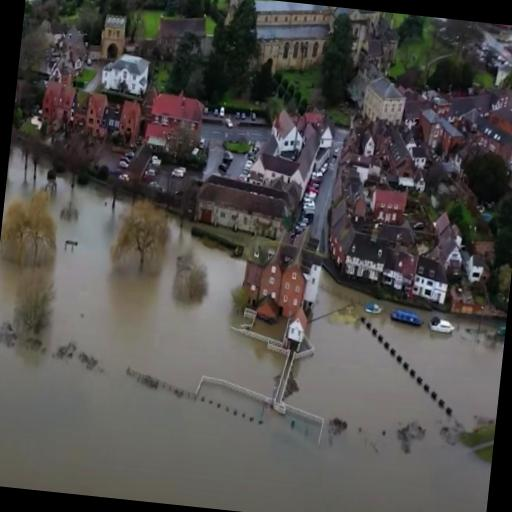flood: (0, 175, 504, 512)
house: (192, 173, 294, 243), (249, 0, 332, 76), (237, 225, 292, 321), (340, 230, 417, 296), (276, 225, 320, 324), (142, 90, 202, 160), (152, 9, 210, 66), (328, 7, 370, 84), (471, 102, 512, 167), (361, 74, 406, 130), (416, 108, 464, 160), (100, 50, 151, 98), (69, 87, 109, 146), (36, 78, 76, 134), (266, 108, 306, 159), (410, 254, 450, 304), (114, 98, 143, 156), (99, 10, 130, 62), (370, 186, 410, 222), (439, 237, 464, 281), (434, 209, 454, 241), (360, 129, 378, 155), (318, 124, 336, 150)
